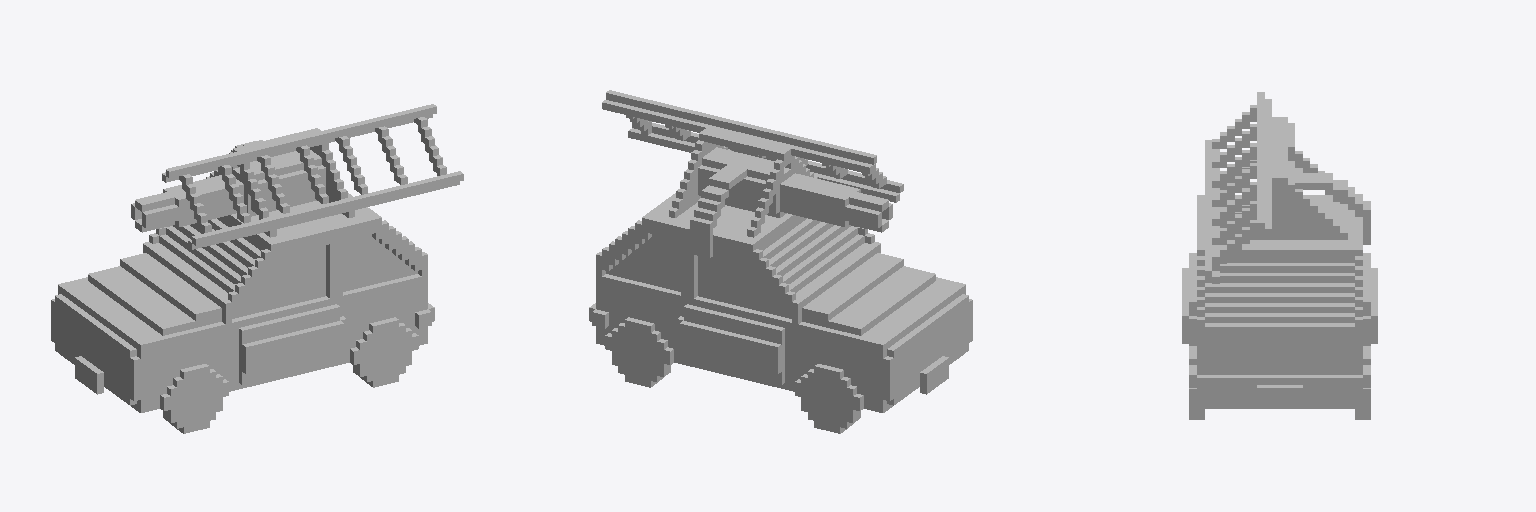
Rendered from Car_01.obj.
The picture shows the model from 3 angles: view 1: azimuth 30°, elevation 25°; view 2: azimuth 150°, elevation 25°; view 3: azimuth 270°, elevation 25°; orthographic projection.
Visible parts, largest first — view 1: object 1; view 2: object 1; view 3: object 1.
Boxes of the visible parts, <box> form: object 1: <box>51,104,463,433</box>; object 1: <box>589,90,972,433</box>; object 1: <box>1182,92,1377,419</box>.
Bounding box in the file's own units: 5.2 × 3.4 × 2.6.